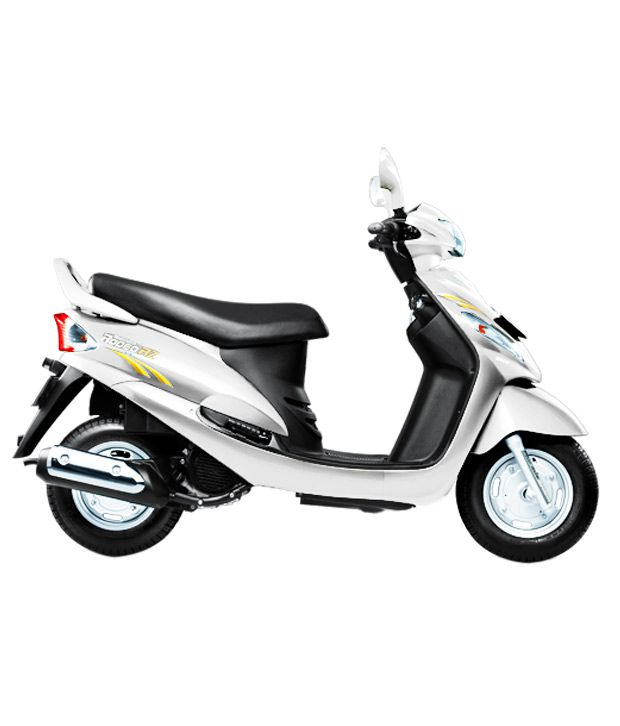Bike: (34, 203, 606, 587)
